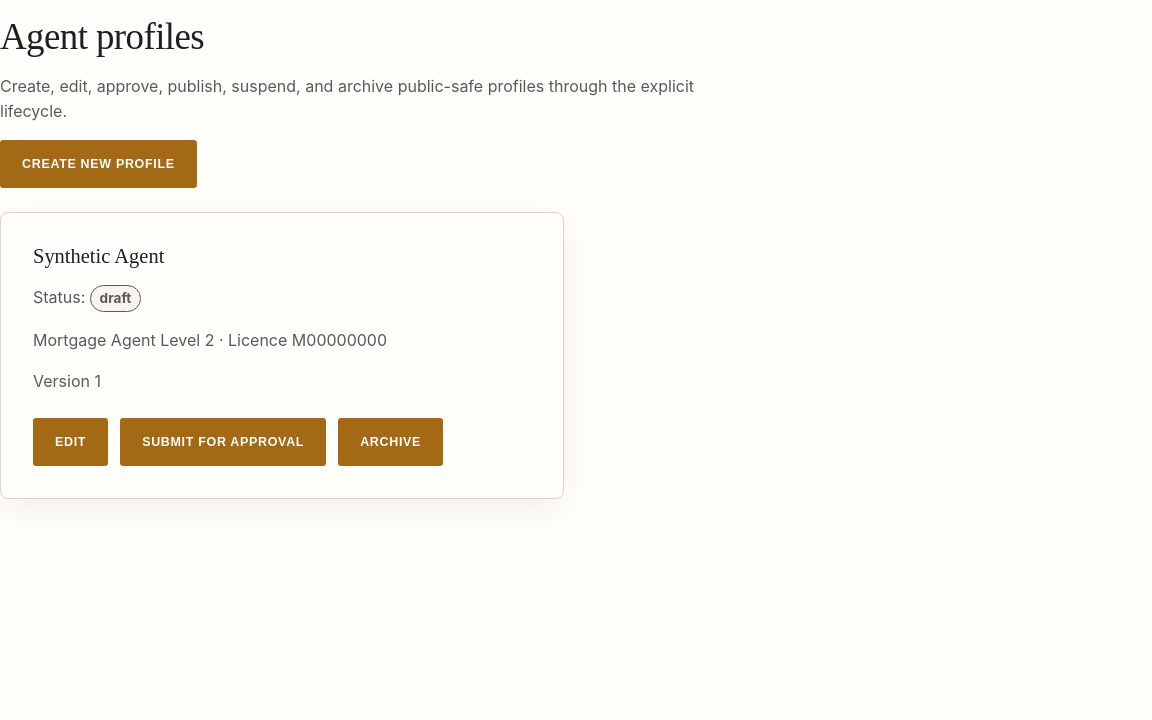
Test: admin agent profile manager › rejects a social link that is not an https link, naming the line
The width and height of the screenshot is (1152, 720).
Click the button with aria-label "edit synthetic agent": [71, 442] box [33,418,108,466]
(page scrolled)
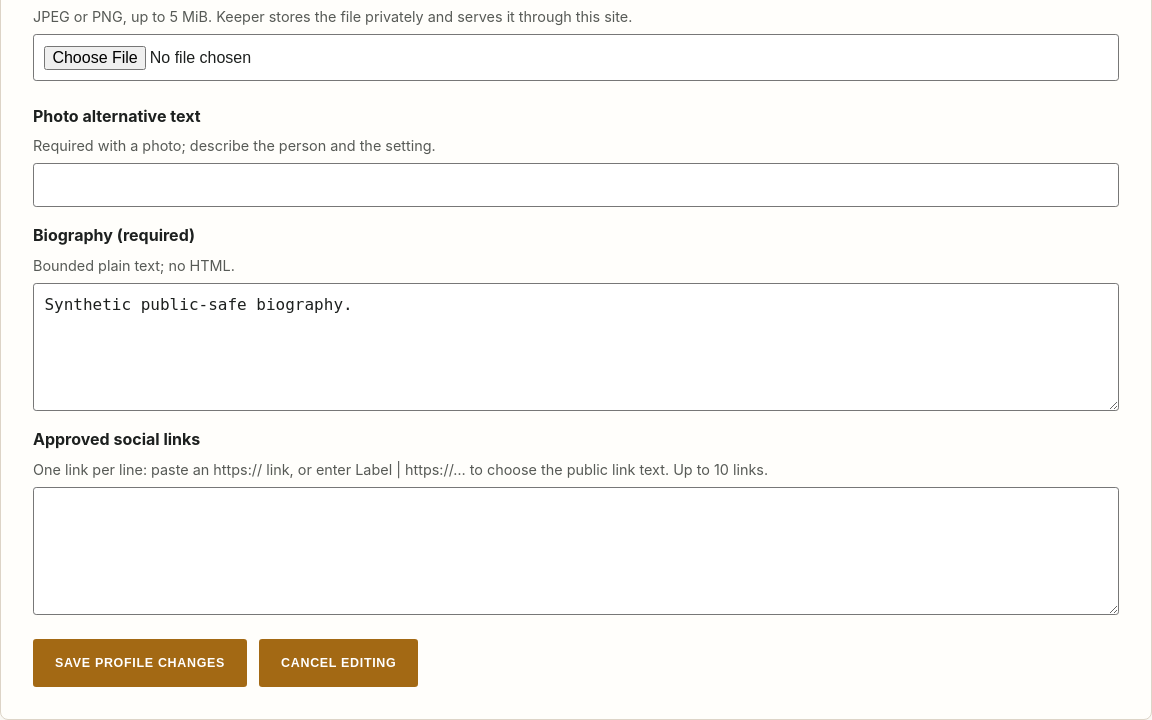
In the text box labelled "Approved social links": [576, 551] box [33,487,1119,615], type "linkedin.com/in/synthetic-agent"
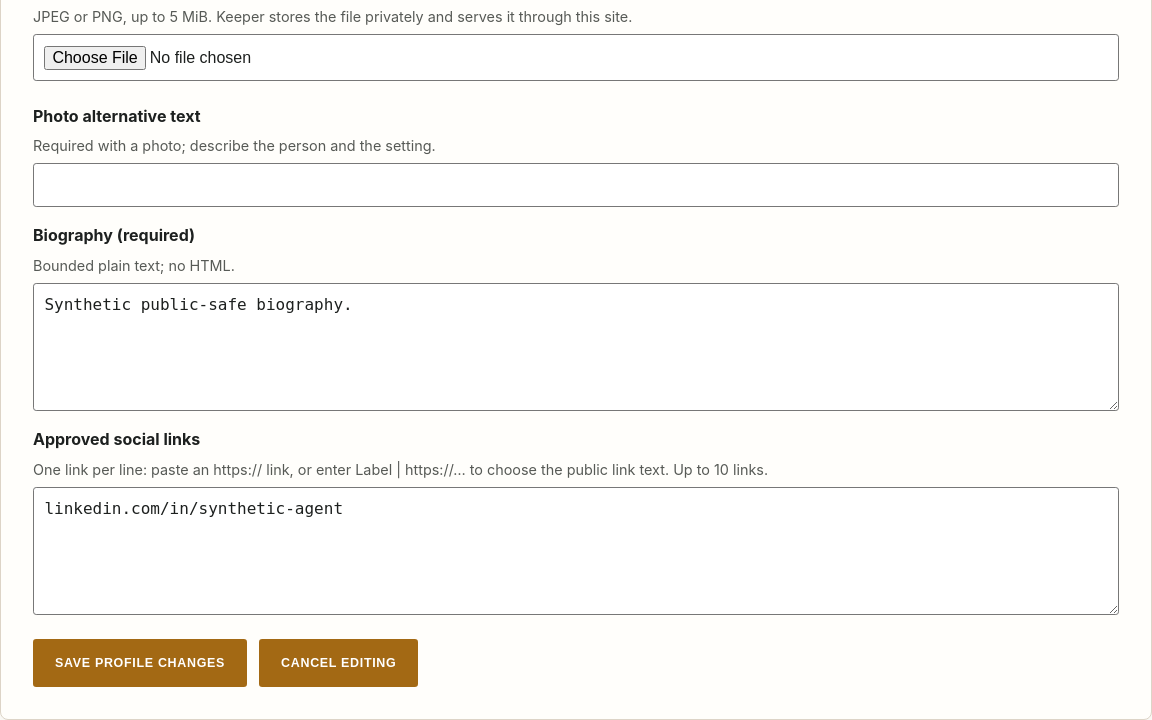
Click the button "Save profile changes": [140, 663] box [33,639,247,687]
(page scrolled)
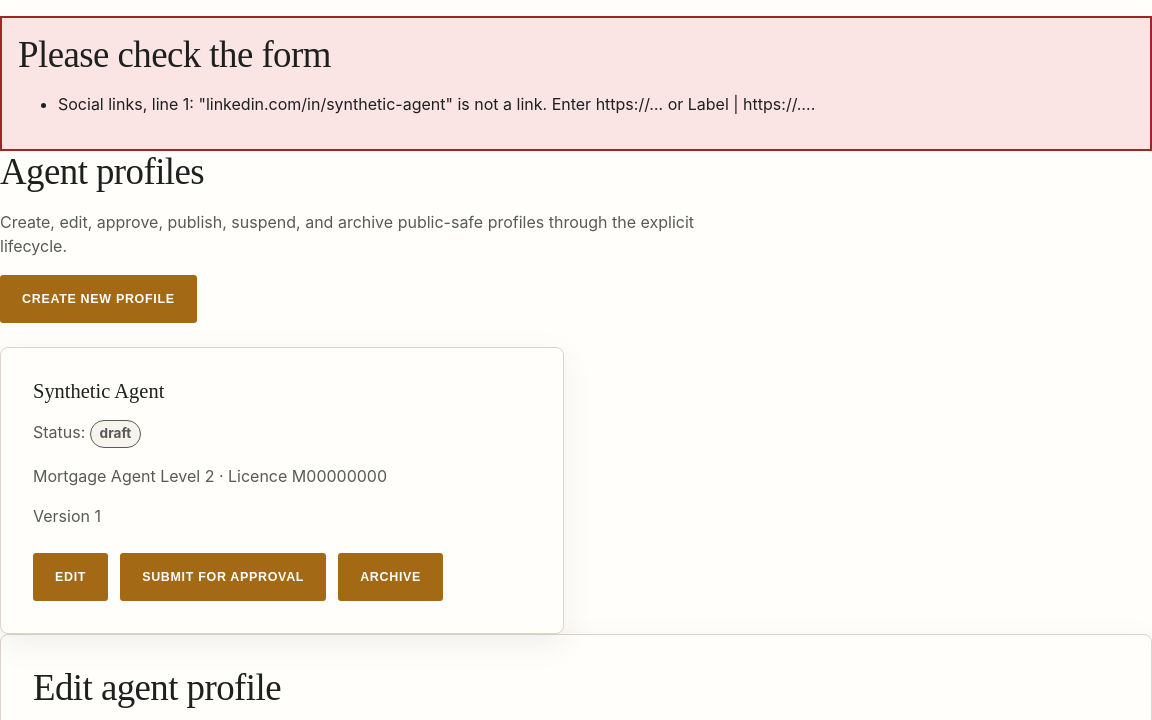
Expected: the message shows "Social links, line 1", [58,94,815,114]
Expected: the message shows "https://", [58,94,815,114]
